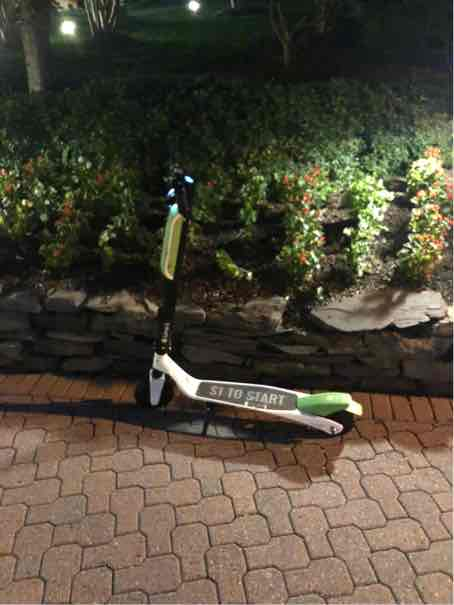scooter: (128, 158, 358, 441)
